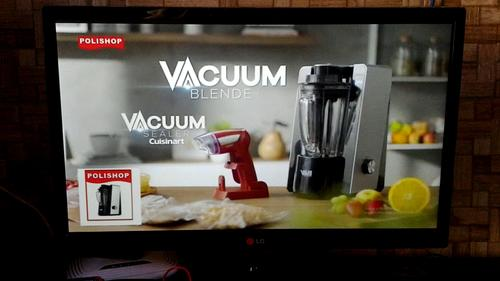Polishop #1: (78, 167, 141, 224)
